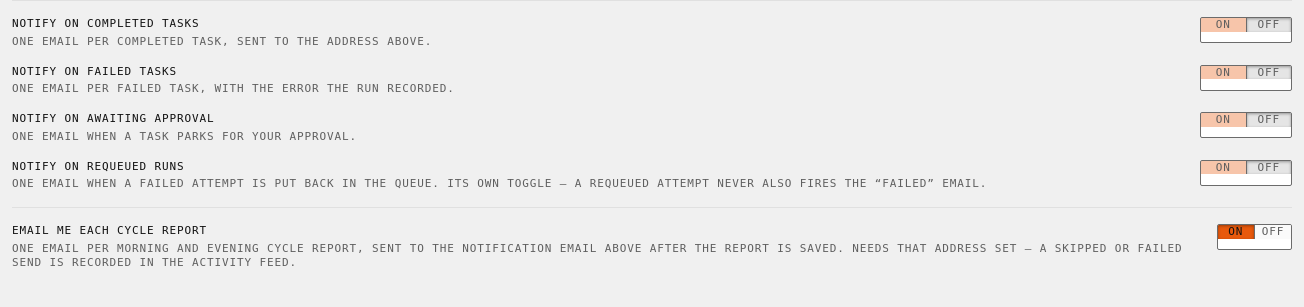
it: V23/L1 — writing cycle_report_email is a real PUT whose answer drives the switch › a refused PUT keeps the old value and names the refusal inline
Click the switch named "Email me each cycle report" at [1254, 237], box [1217,224,1292,250]
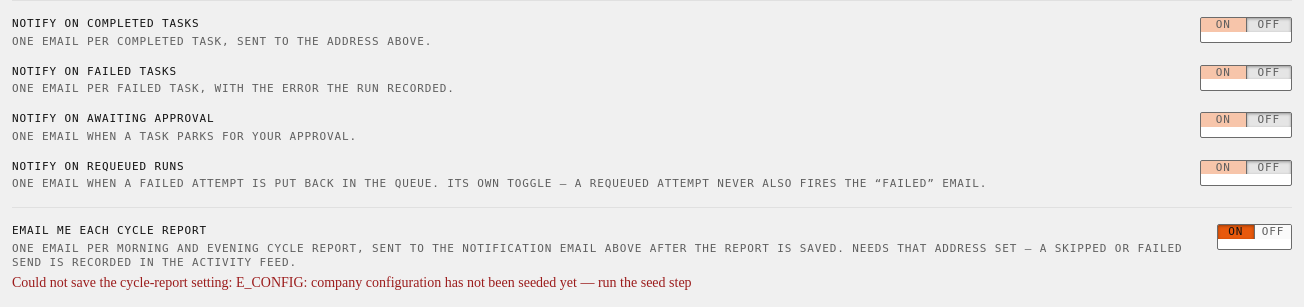
Result: the message shows "E_CONFIG" at [236,275,692,290]
Result: the message shows "company configuration has not been seeded yet" at [236,275,692,290]
Result: the message shows "run the seed step" at [236,275,692,290]
